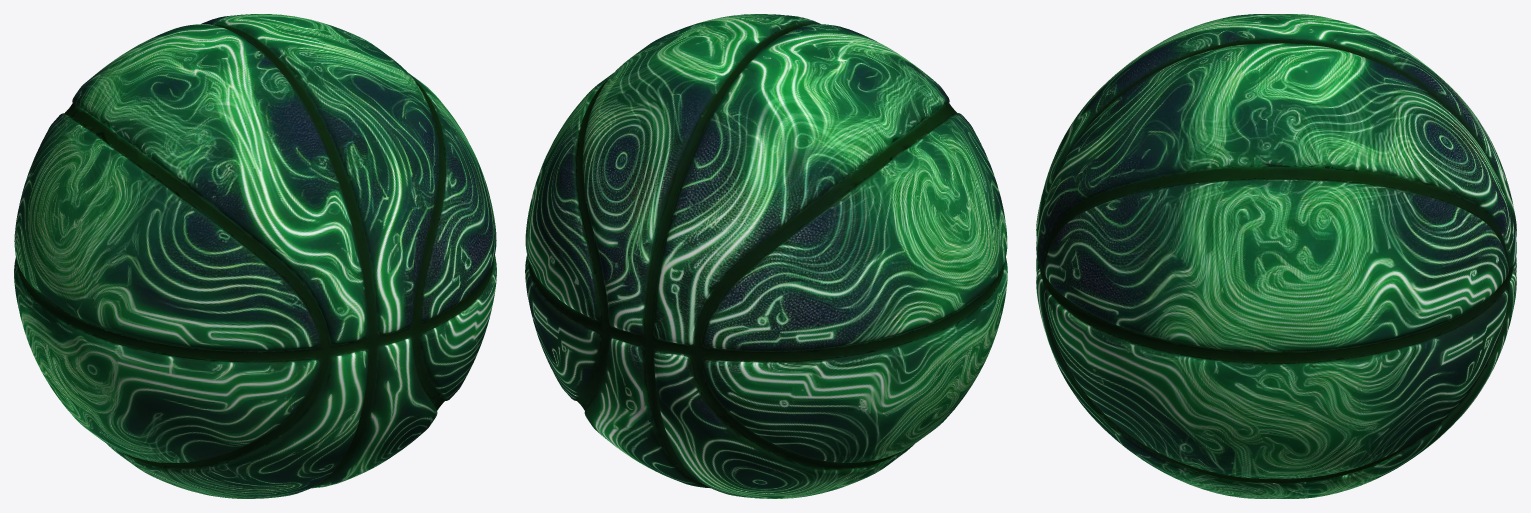
File: basketball-verde-mobile.glb
The picture shows the model from 3 angles, left to right: view 1: azimuth 30°, elevation 25°; view 2: azimuth 150°, elevation 25°; view 3: azimuth 270°, elevation 25°; orthographic projection.
Parts seen in each view (by area): view 1: node_0; view 2: node_0; view 3: node_0.
Part boxes in pixels (x1,y1,x2,y2): node_0: [14, 14, 496, 498]; node_0: [525, 14, 1007, 498]; node_0: [1036, 14, 1516, 498].
Size of the model in its own units: 1.18 by 1.18 by 1.17.
Materials: 1 (1 with a texture image).
